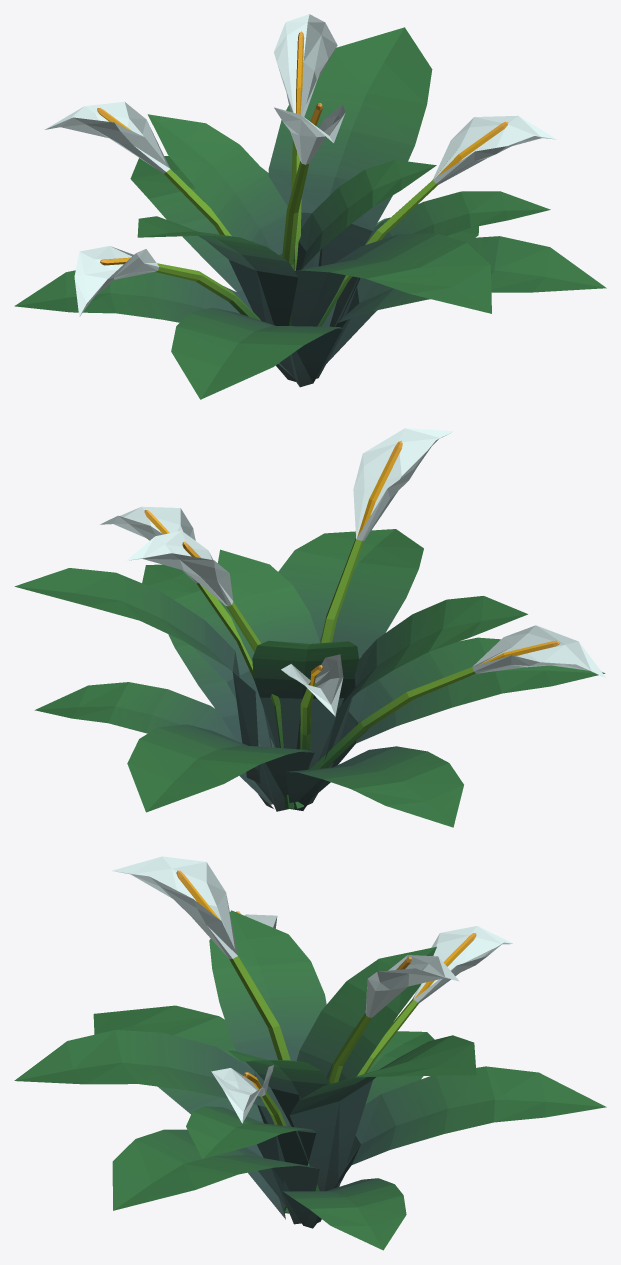
Rendered from blanco-2.glb.
3 views of the same model, one above another, from view 1: azimuth 30°, elevation 25°; view 2: azimuth 150°, elevation 25°; view 3: azimuth 270°, elevation 25° (orthographic).
Parts seen in each view (by area): view 1: Flower.023; view 2: Flower.023; view 3: Flower.023.
Boxes of the visible parts, <box> form: Flower.023: <box>14,14,606,399</box>; Flower.023: <box>14,428,606,827</box>; Flower.023: <box>14,856,606,1250</box>.
Bounding box in the file's own units: 3.05 × 1.96 × 3.22.
Materials: 1 (1 with a texture image).
